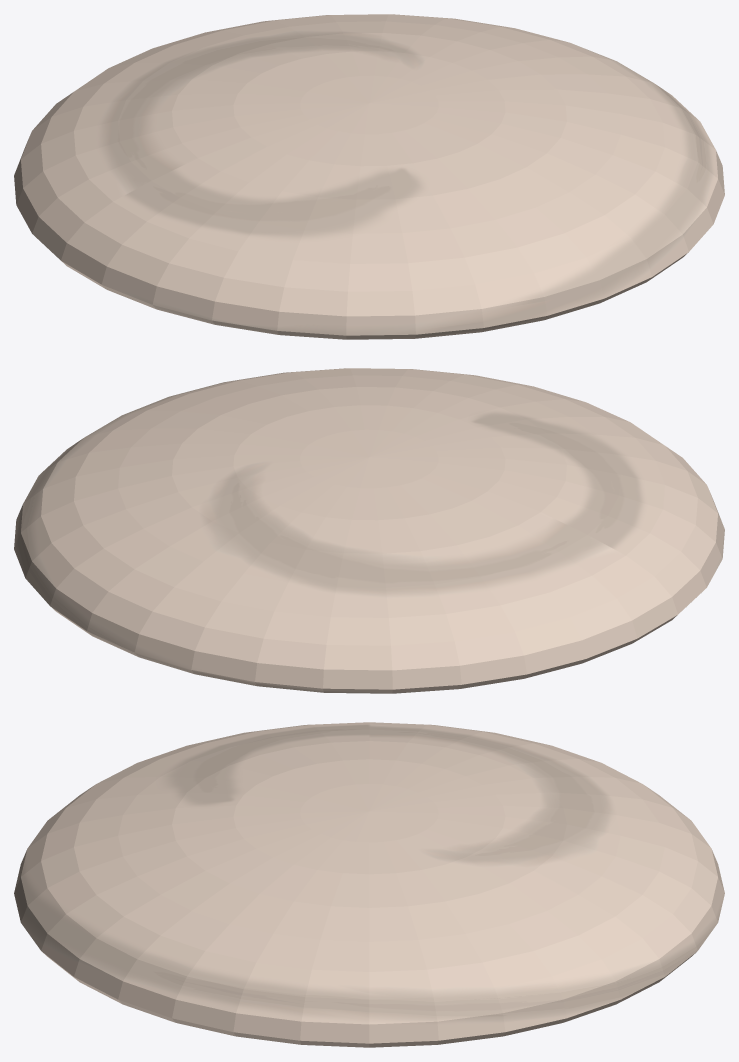
File: Masa_semi_plana.fbx
3 views of the same model, one above another, from view 1: azimuth 30°, elevation 25°; view 2: azimuth 150°, elevation 25°; view 3: azimuth 270°, elevation 25° (orthographic).
Visible parts, largest first — view 1: Sphere; view 2: Sphere; view 3: Sphere.
Part boxes in pixels (x1,y1,x2,y2): Sphere: [14, 14, 724, 339]; Sphere: [14, 368, 724, 693]; Sphere: [14, 722, 724, 1047].
Bounding box in the file's own units: 1029 × 142 × 1029.
